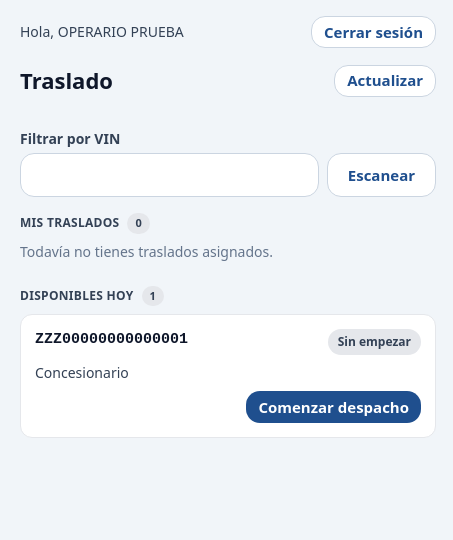
it: cuándo aparece la búsqueda en el sistema › aparece cuando el filtro no encuentra nada en el teléfono, y dice que puede estar sin descargar (no «no existe»)
This screenshot has width=453, height=540.
Type "LSCA" into the search field labelled "Filtrar por VIN". click: (169,175)
box: [20,153,319,197]
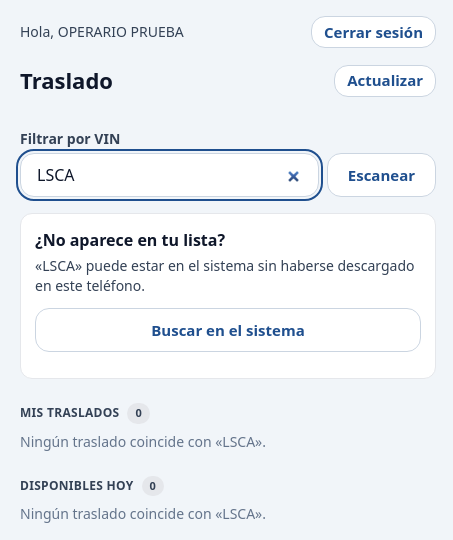
Expected: the button "Buscar en el sistema" is enabled, [35,308,421,352]
Expected: the heading "¿No aparece en tu lista?" is shown, [35,229,225,251]
Expected: the text "puede estar en el sistema sin haberse descargado" is shown, [35,256,414,295]
